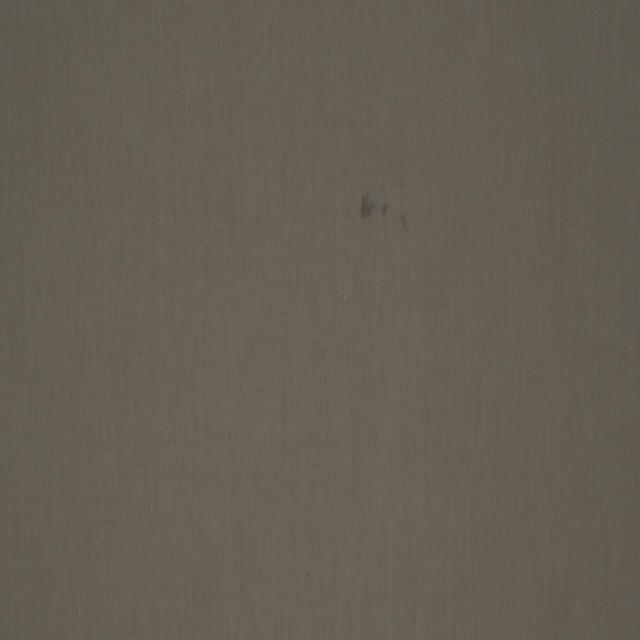dirty: (358, 190, 375, 226), (400, 215, 410, 233), (381, 202, 390, 216)
